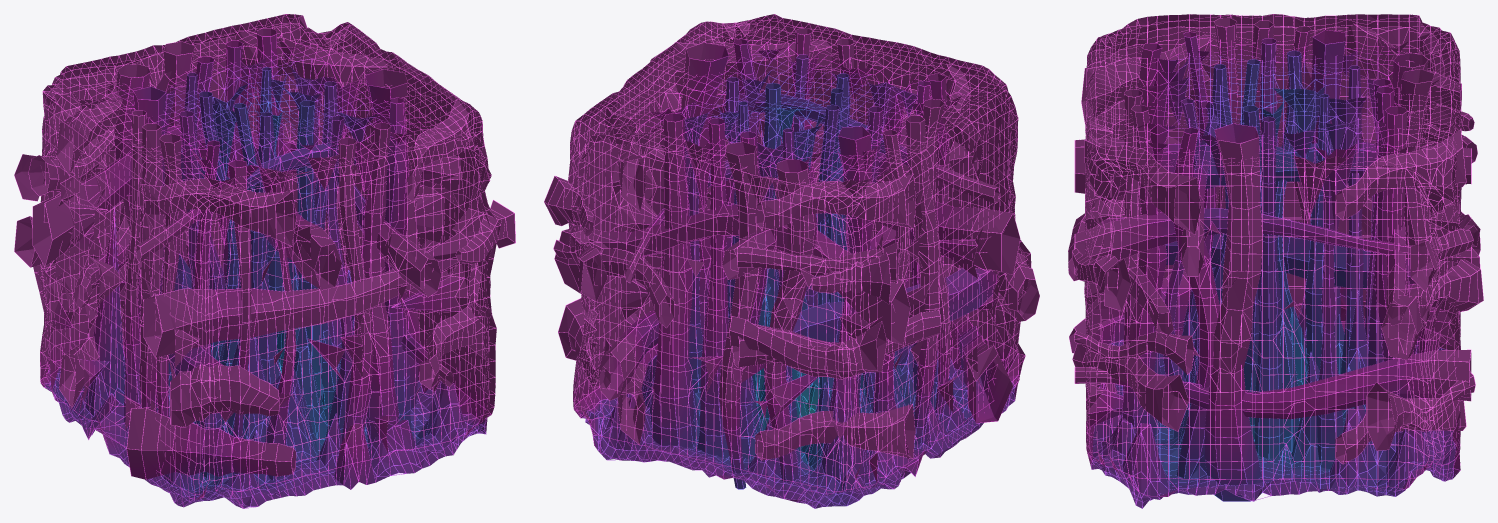
File: cave.glb
The picture shows the model from 3 angles, left to right: view 1: azimuth 30°, elevation 25°; view 2: azimuth 150°, elevation 25°; view 3: azimuth 270°, elevation 25°; orthographic projection. The views are drawn at different scales.
Parts seen in each view (by area): view 1: battlezone_terrain_surface, battlezone_terrain_wire; view 2: battlezone_terrain_surface, battlezone_terrain_wire; view 3: battlezone_terrain_surface, battlezone_terrain_wire.
Part boxes in pixels (x1,y1,x2,y2): battlezone_terrain_surface: [14, 14, 515, 508]; battlezone_terrain_wire: [14, 14, 515, 508]; battlezone_terrain_surface: [544, 14, 1039, 508]; battlezone_terrain_wire: [544, 14, 1039, 508]; battlezone_terrain_surface: [1068, 14, 1483, 508]; battlezone_terrain_wire: [1068, 14, 1483, 508].
Size of what is drawn, in the model's own units: 105 by 99.61 by 101.
Materials: 2 (2 with a texture image).
